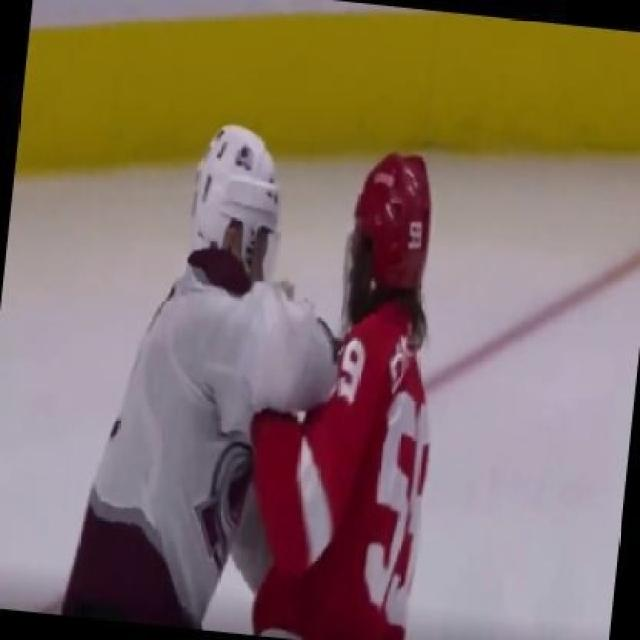fight: (5, 77, 523, 638)
